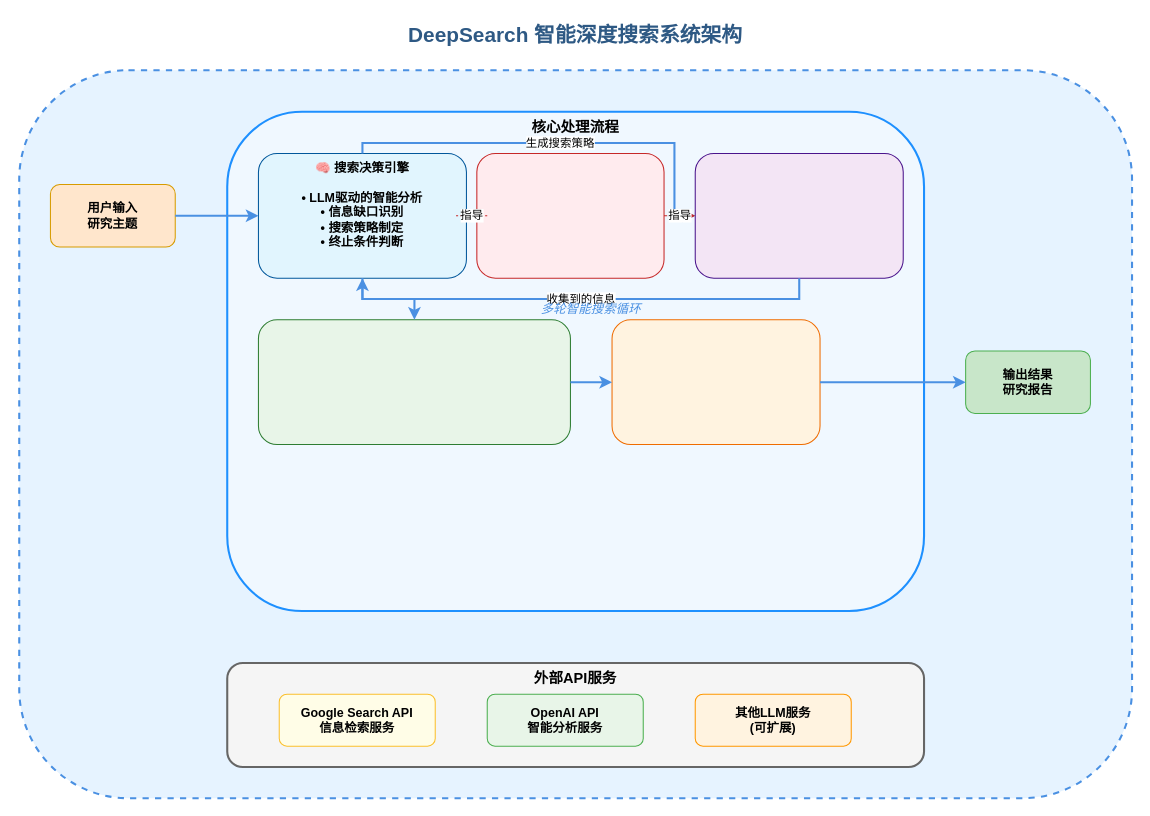
Image size: 1150x816. Some labels were removed from this diagram. Here are the shapes that lost their labels. From the top down, the centre of each, then its label:
(x=570, y=215): 🎯 提示词工程 • 自定义结构化输出 • 角色定位设计 • 任务描述优化 • 容错处理机制
(x=798, y=215): 🔍 信息搜索模块 • Google Search API • 结果去重处理 • 智能内容筛选 • 有用性判断
(x=413, y=382): 🔄 工作流编排器 (PocketFlow) • Node基类设计 • 条件分支控制 • 循环流程管理 • 状态共享机制
(x=715, y=382): 📊 报告生成器 • 信息汇总整理 • Markdown格式化 • 参考文献生成 • 文件保存输出
